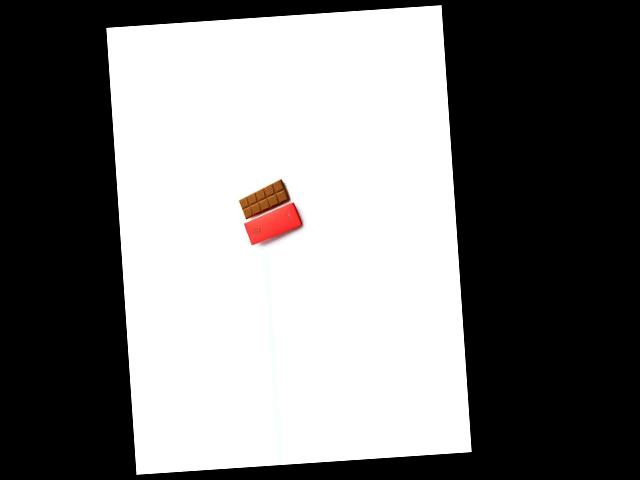chocolate: (237, 178, 293, 222)
